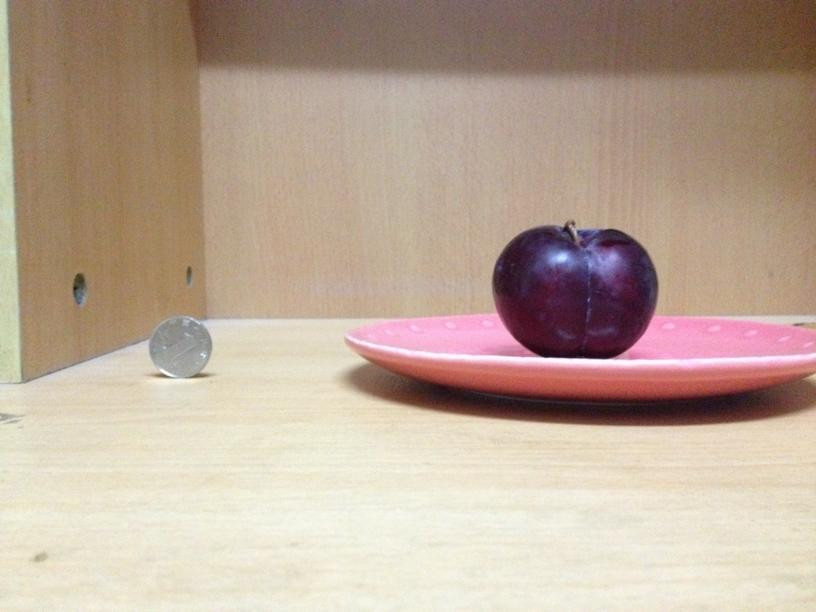coin: (151, 318, 212, 379)
plum: (489, 226, 659, 355)
